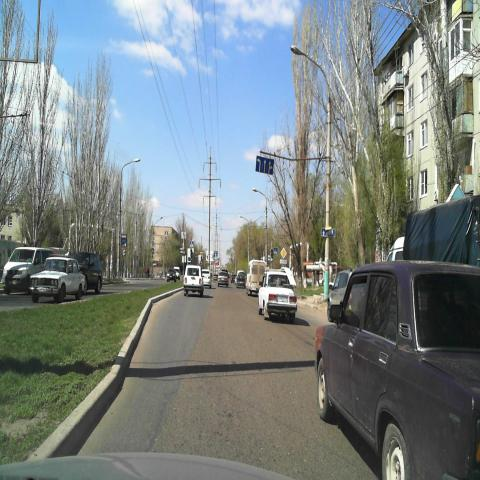5_15_1: (256, 155, 274, 174)
6_15_1: (320, 227, 336, 237)
